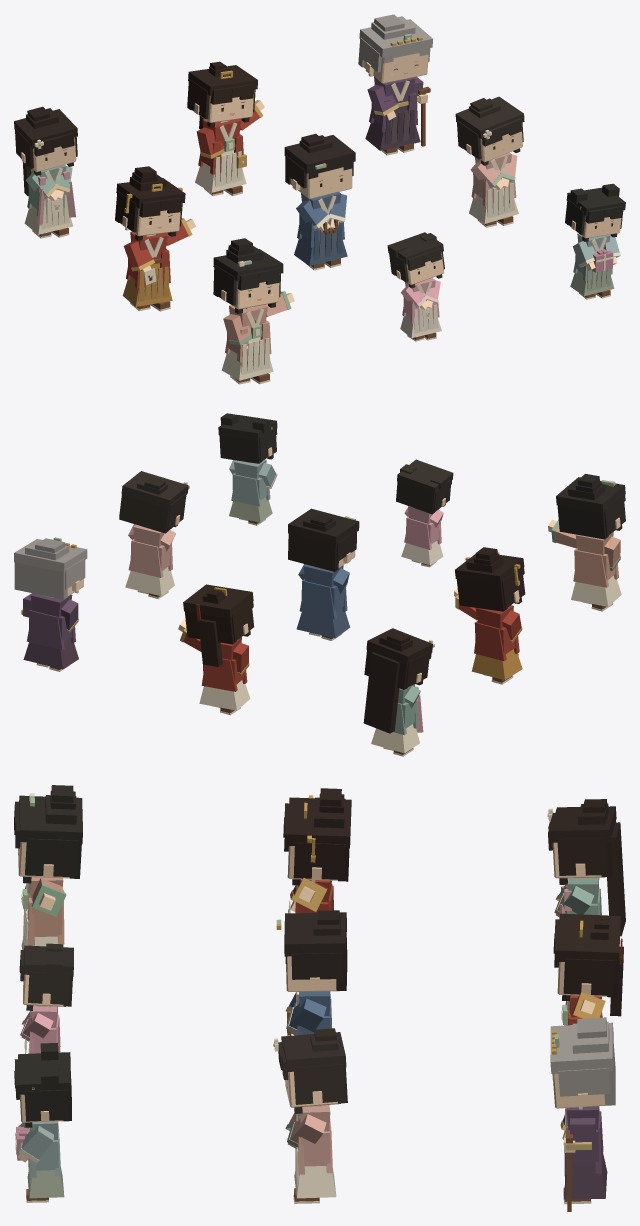
File: jiafu-block-characters-v11.glb
3 renders of one model, top to bottom at view 1: azimuth 30°, elevation 25°; view 2: azimuth 150°, elevation 25°; view 3: azimuth 270°, elevation 25°, orthographic. The views are drawn at different scales.
Parts seen in each view (by area): view 1: jiamu_HairAndFace, tanchun_HairAndFace, fengjie_HairAndFace, wang_HairAndFace, baoyu_HairAndFace, daiyu_HairAndFace, yingchun_HairAndFace, xueyan_HairAndFace, jiamu_Body, baoyu_Body, tanchun_Body, xichun_HairAndFace (+12 smaller); view 2: daiyu_HairAndFace, baoyu_HairAndFace, jiamu_HairAndFace, tanchun_HairAndFace, fengjie_HairAndFace, wang_HairAndFace, yingchun_HairAndFace, jiamu_Body, wang_Body, tanchun_Body, fengjie_Body, yingchun_Body (+6 smaller); view 3: daiyu_HairAndFace, tanchun_HairAndFace, baoyu_HairAndFace, fengjie_HairAndFace, jiamu_HairAndFace, wang_HairAndFace, yingchun_HairAndFace, xueyan_HairAndFace, xichun_HairAndFace, yingchun_Body, jiamu_Body, xueyan_Body (+12 smaller).
Part boxes in pixels (x1=…): jiamu_HairAndFace: x1=358, y1=14, x2=432, y2=83; tanchun_HairAndFace: x1=213, y1=238, x2=283, y2=313; fengjie_HairAndFace: x1=115, y1=166, x2=185, y2=240; wang_HairAndFace: x1=284, y1=133, x2=355, y2=199; baoyu_HairAndFace: x1=187, y1=61, x2=257, y2=129; daiyu_HairAndFace: x1=14, y1=106, x2=77, y2=196; yingchun_HairAndFace: x1=455, y1=96, x2=524, y2=165; xueyan_HairAndFace: x1=565, y1=183, x2=625, y2=241; jiamu_Body: x1=365, y1=76, x2=420, y2=150; baoyu_Body: x1=195, y1=119, x2=246, y2=192; tanchun_Body: x1=222, y1=305, x2=273, y2=380; xichun_HairAndFace: x1=387, y1=232, x2=444, y2=288; daiyu_HairAndFace: x1=363, y1=628, x2=434, y2=733; baoyu_HairAndFace: x1=183, y1=584, x2=254, y2=666; jiamu_HairAndFace: x1=14, y1=537, x2=87, y2=599; tanchun_HairAndFace: x1=556, y1=474, x2=625, y2=539; fengjie_HairAndFace: x1=455, y1=547, x2=525, y2=611; wang_HairAndFace: x1=288, y1=508, x2=359, y2=571; yingchun_HairAndFace: x1=119, y1=471, x2=189, y2=533; jiamu_Body: x1=23, y1=593, x2=78, y2=669; wang_Body: x1=296, y1=564, x2=350, y2=638; tanchun_Body: x1=571, y1=531, x2=621, y2=606; fengjie_Body: x1=471, y1=605, x2=522, y2=680; yingchun_Body: x1=125, y1=524, x2=174, y2=596; daiyu_HairAndFace: x1=547, y1=799, x2=625, y2=936; tanchun_HairAndFace: x1=14, y1=785, x2=82, y2=883; baoyu_HairAndFace: x1=553, y1=913, x2=623, y2=1016; fengjie_HairAndFace: x1=283, y1=788, x2=351, y2=885; jiamu_HairAndFace: x1=550, y1=1017, x2=615, y2=1109; wang_HairAndFace: x1=276, y1=910, x2=347, y2=991; yingchun_HairAndFace: x1=273, y1=1028, x2=347, y2=1113; xueyan_HairAndFace: x1=14, y1=1042, x2=71, y2=1127; xichun_HairAndFace: x1=19, y1=943, x2=73, y2=1010; yingchun_Body: x1=294, y1=1105, x2=336, y2=1198; jiamu_Body: x1=564, y1=1106, x2=607, y2=1199; xueyan_Body: x1=15, y1=1121, x2=64, y2=1198.
Size of the model in its own units: 9.31 by 2.93 by 9.08.
